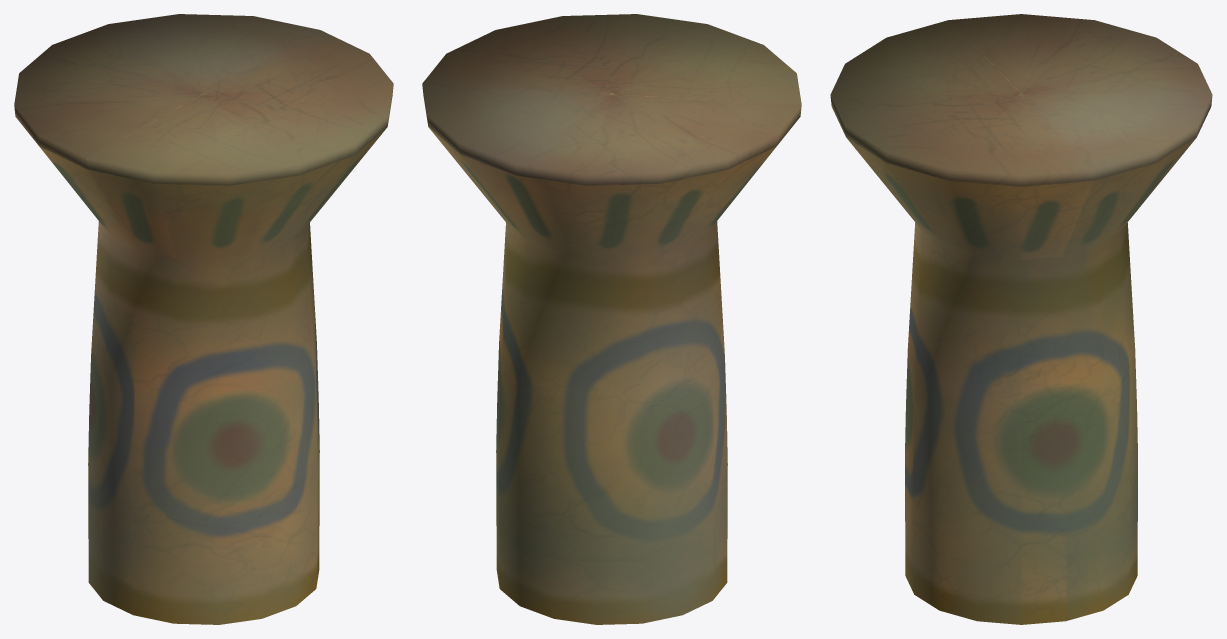
Rendered from Pillar.fbx.
3 views of the same model, side by side, from view 1: azimuth 30°, elevation 25°; view 2: azimuth 150°, elevation 25°; view 3: azimuth 270°, elevation 25° (orthographic).
Visible parts, largest first — view 1: Cylinder; view 2: Cylinder; view 3: Cylinder.
Part boxes in pixels (x1,y1,x2,y2): Cylinder: [14, 14, 393, 624]; Cylinder: [422, 14, 801, 624]; Cylinder: [830, 14, 1212, 624].
Size of the model in its own units: 182 by 253 by 182.
